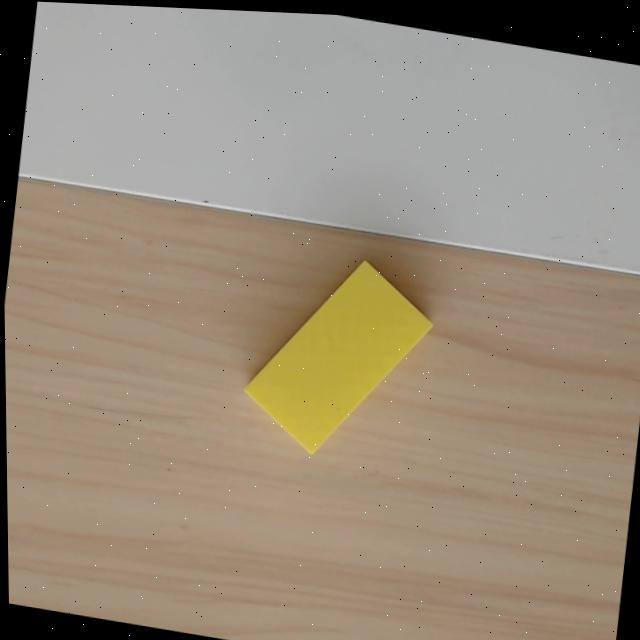Balok-Kuning-1005025: (240, 256, 436, 456)
